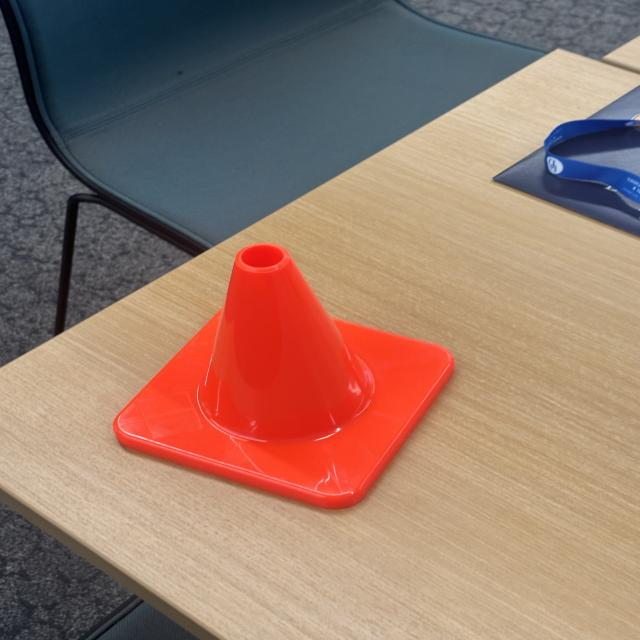Traffic Cone: (107, 238, 463, 516)
